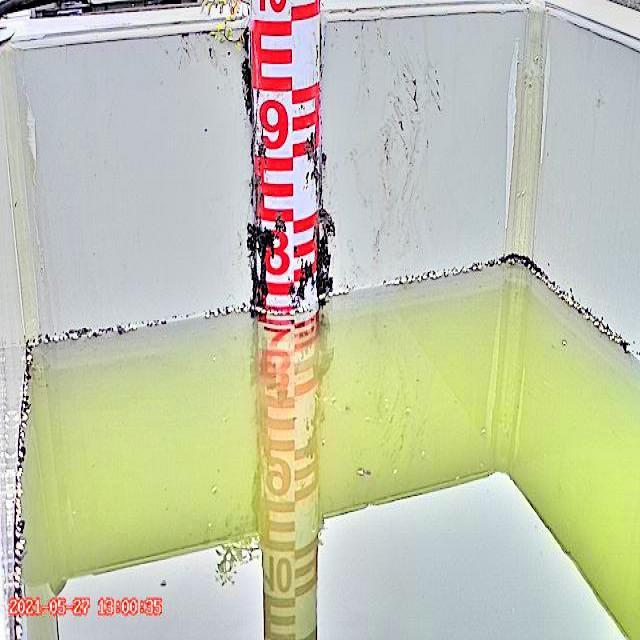ruler: (249, 1, 330, 329)
value: (254, 91, 293, 159), (260, 225, 294, 277)
